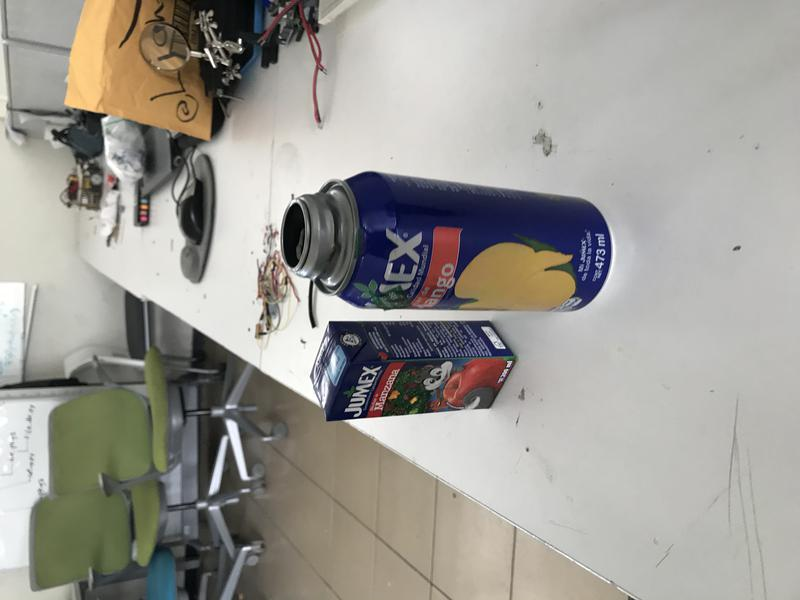jumex_botella: (277, 171, 617, 314)
jumex_cajita: (311, 320, 517, 421)
